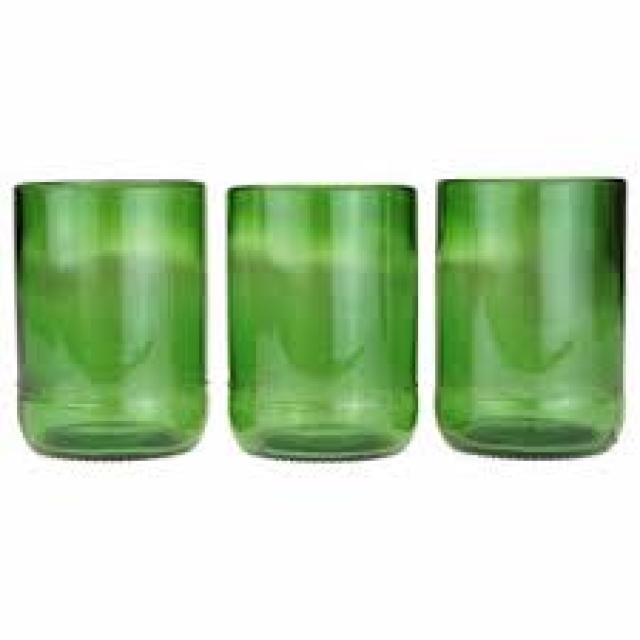glass: (14, 176, 205, 458), (225, 182, 418, 458), (432, 174, 620, 455)
